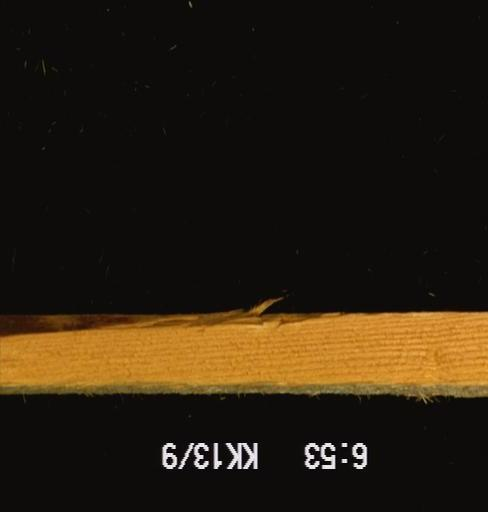wave: (0, 295, 360, 348)
